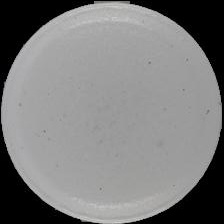24979-004: (0, 0, 224, 224)
